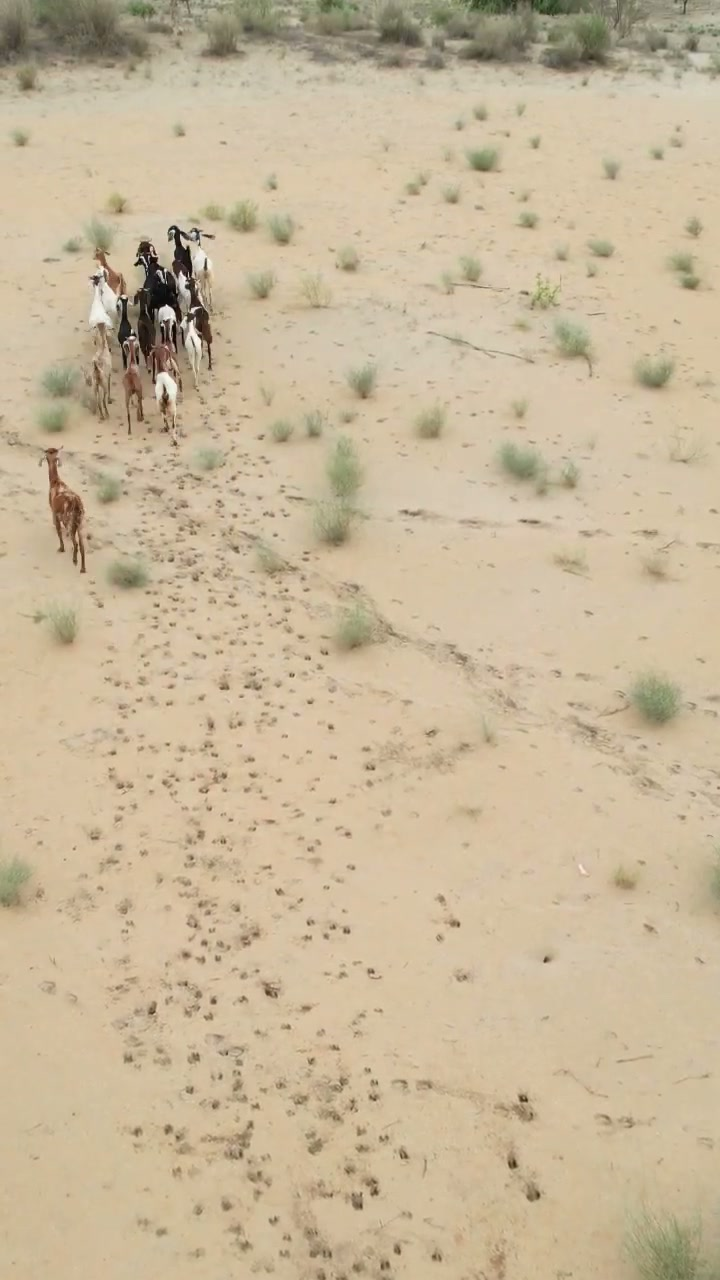animal_foot_print: (61, 449, 430, 1247)
